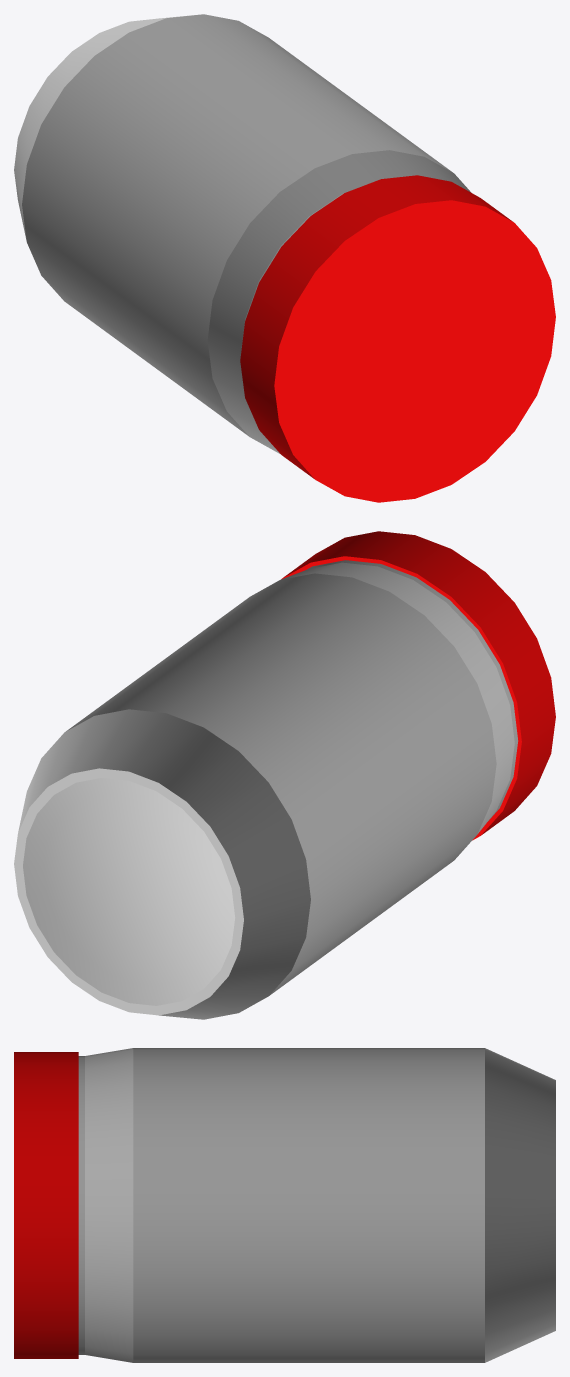
File: model_align.obj
The picture shows the model from 3 angles, top to bottom: view 1: azimuth 30°, elevation 25°; view 2: azimuth 150°, elevation 25°; view 3: azimuth 270°, elevation 25°; orthographic projection. The views are drawn at different scales.
Visible parts, largest first — view 1: mesh4_mesh4-geometry, mesh1_mesh1-geometry; view 2: mesh4_mesh4-geometry, mesh1_mesh1-geometry; view 3: mesh4_mesh4-geometry, mesh1_mesh1-geometry.
Boxes of the visible parts, bbox=[...] form: mesh4_mesh4-geometry: bbox=[14, 14, 471, 453]; mesh1_mesh1-geometry: bbox=[240, 175, 555, 502]; mesh4_mesh4-geometry: bbox=[14, 560, 518, 1019]; mesh1_mesh1-geometry: bbox=[281, 531, 555, 840]; mesh4_mesh4-geometry: bbox=[78, 1048, 555, 1362]; mesh1_mesh1-geometry: bbox=[14, 1052, 78, 1358].
Bounding box in the file's own units: 0.1333 × 0.1333 × 0.2285.
